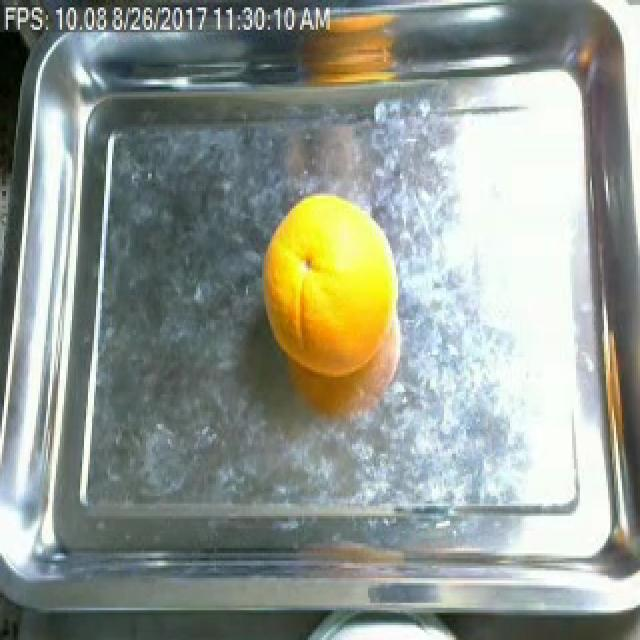Fruit: (256, 184, 408, 426)
